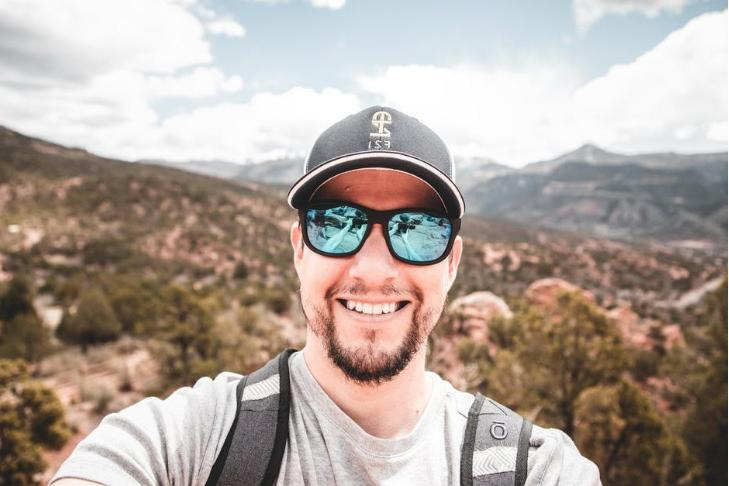face: (297, 167, 449, 372)
